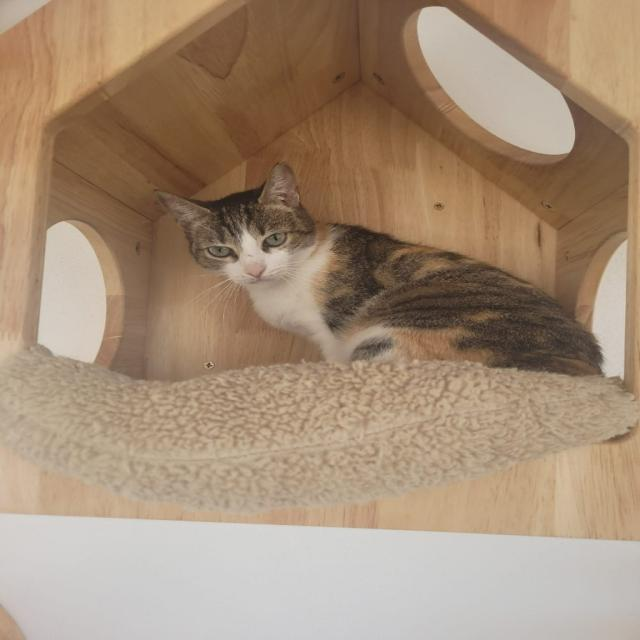calico_cat: (146, 158, 328, 296)
